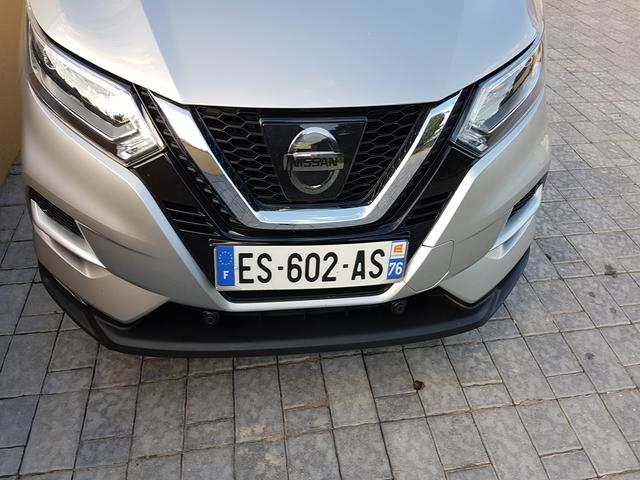Quashquai: (186, 213, 436, 308)
